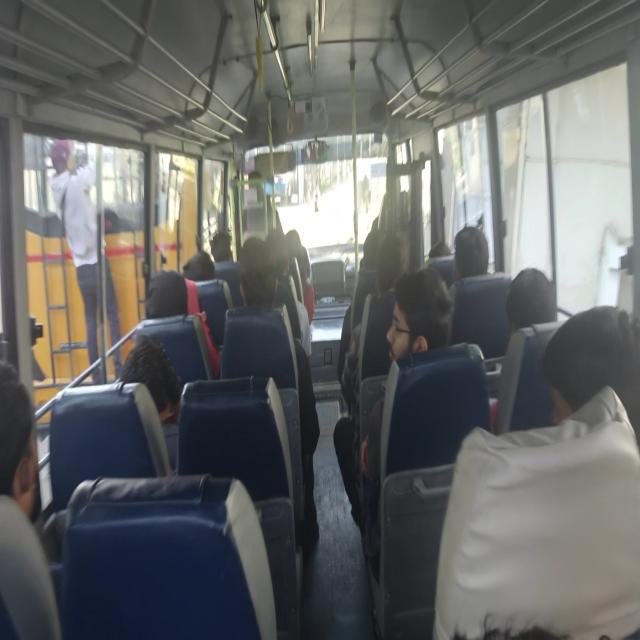person: (552, 306, 640, 537), (0, 379, 80, 555), (394, 262, 472, 388), (511, 252, 563, 358), (124, 340, 182, 430), (185, 247, 232, 303), (243, 237, 277, 308), (449, 228, 488, 282), (148, 277, 190, 326), (263, 218, 292, 282), (214, 225, 240, 277), (363, 227, 392, 270), (385, 241, 413, 277), (429, 233, 451, 266), (286, 228, 308, 250)
